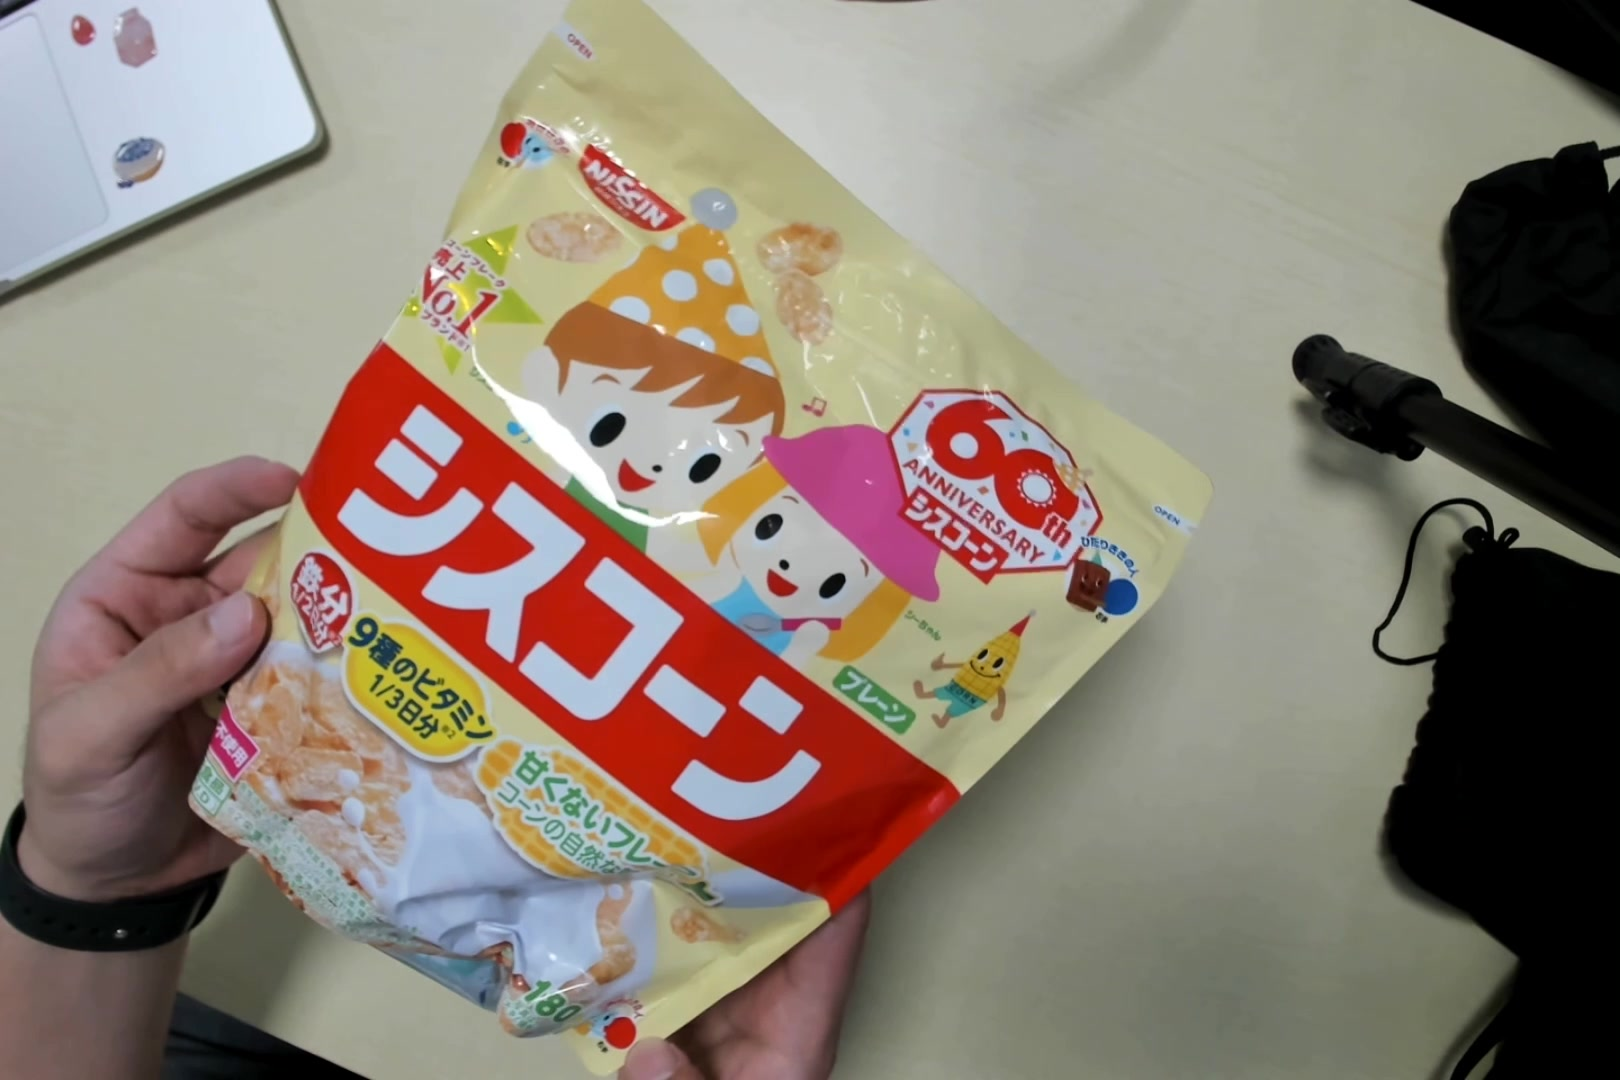BreakfastCereals_100-199g_NonHalal_NonHealthy: (217, 75, 1150, 1041)
